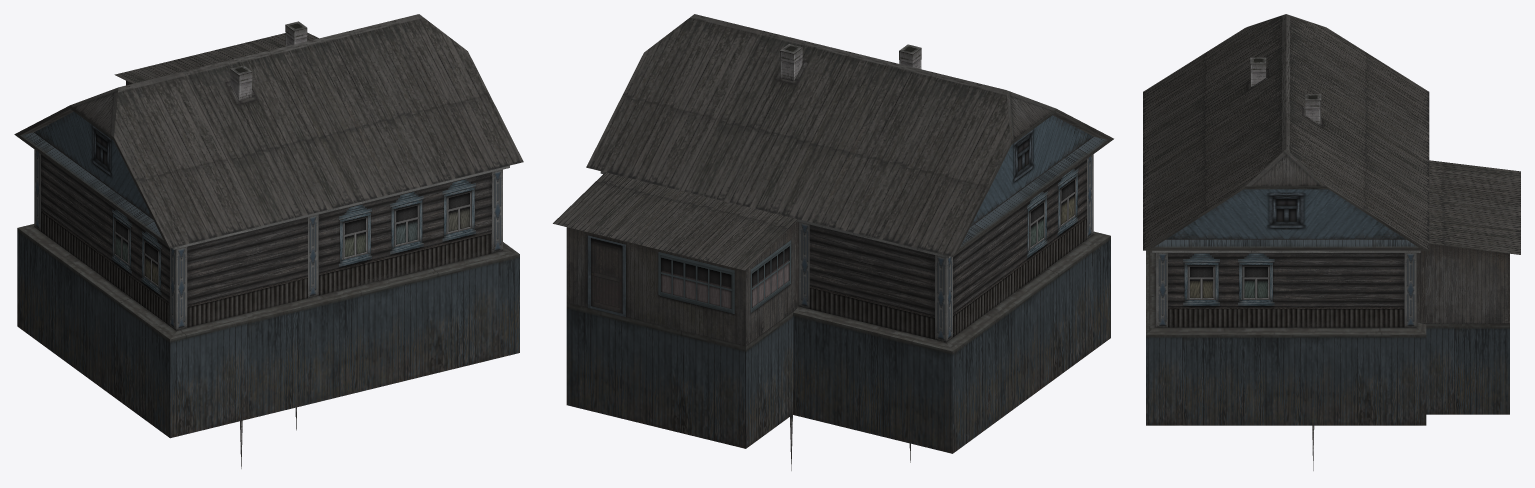
Rendered from RurHut_01.FBX.
3 renders of one model, left to right at view 1: azimuth 30°, elevation 25°; view 2: azimuth 150°, elevation 25°; view 3: azimuth 270°, elevation 25°, orthographic. The views are drawn at different scales.
Visible parts, largest first — view 1: House_01; view 2: House_01; view 3: House_01.
Boxes of the visible parts, x1,y1,x2,y2 form: House_01: (14, 14, 523, 468); House_01: (553, 14, 1113, 470); House_01: (1143, 14, 1520, 470).
Size of the model in its own units: 11.07 by 12.25 by 11.14.
